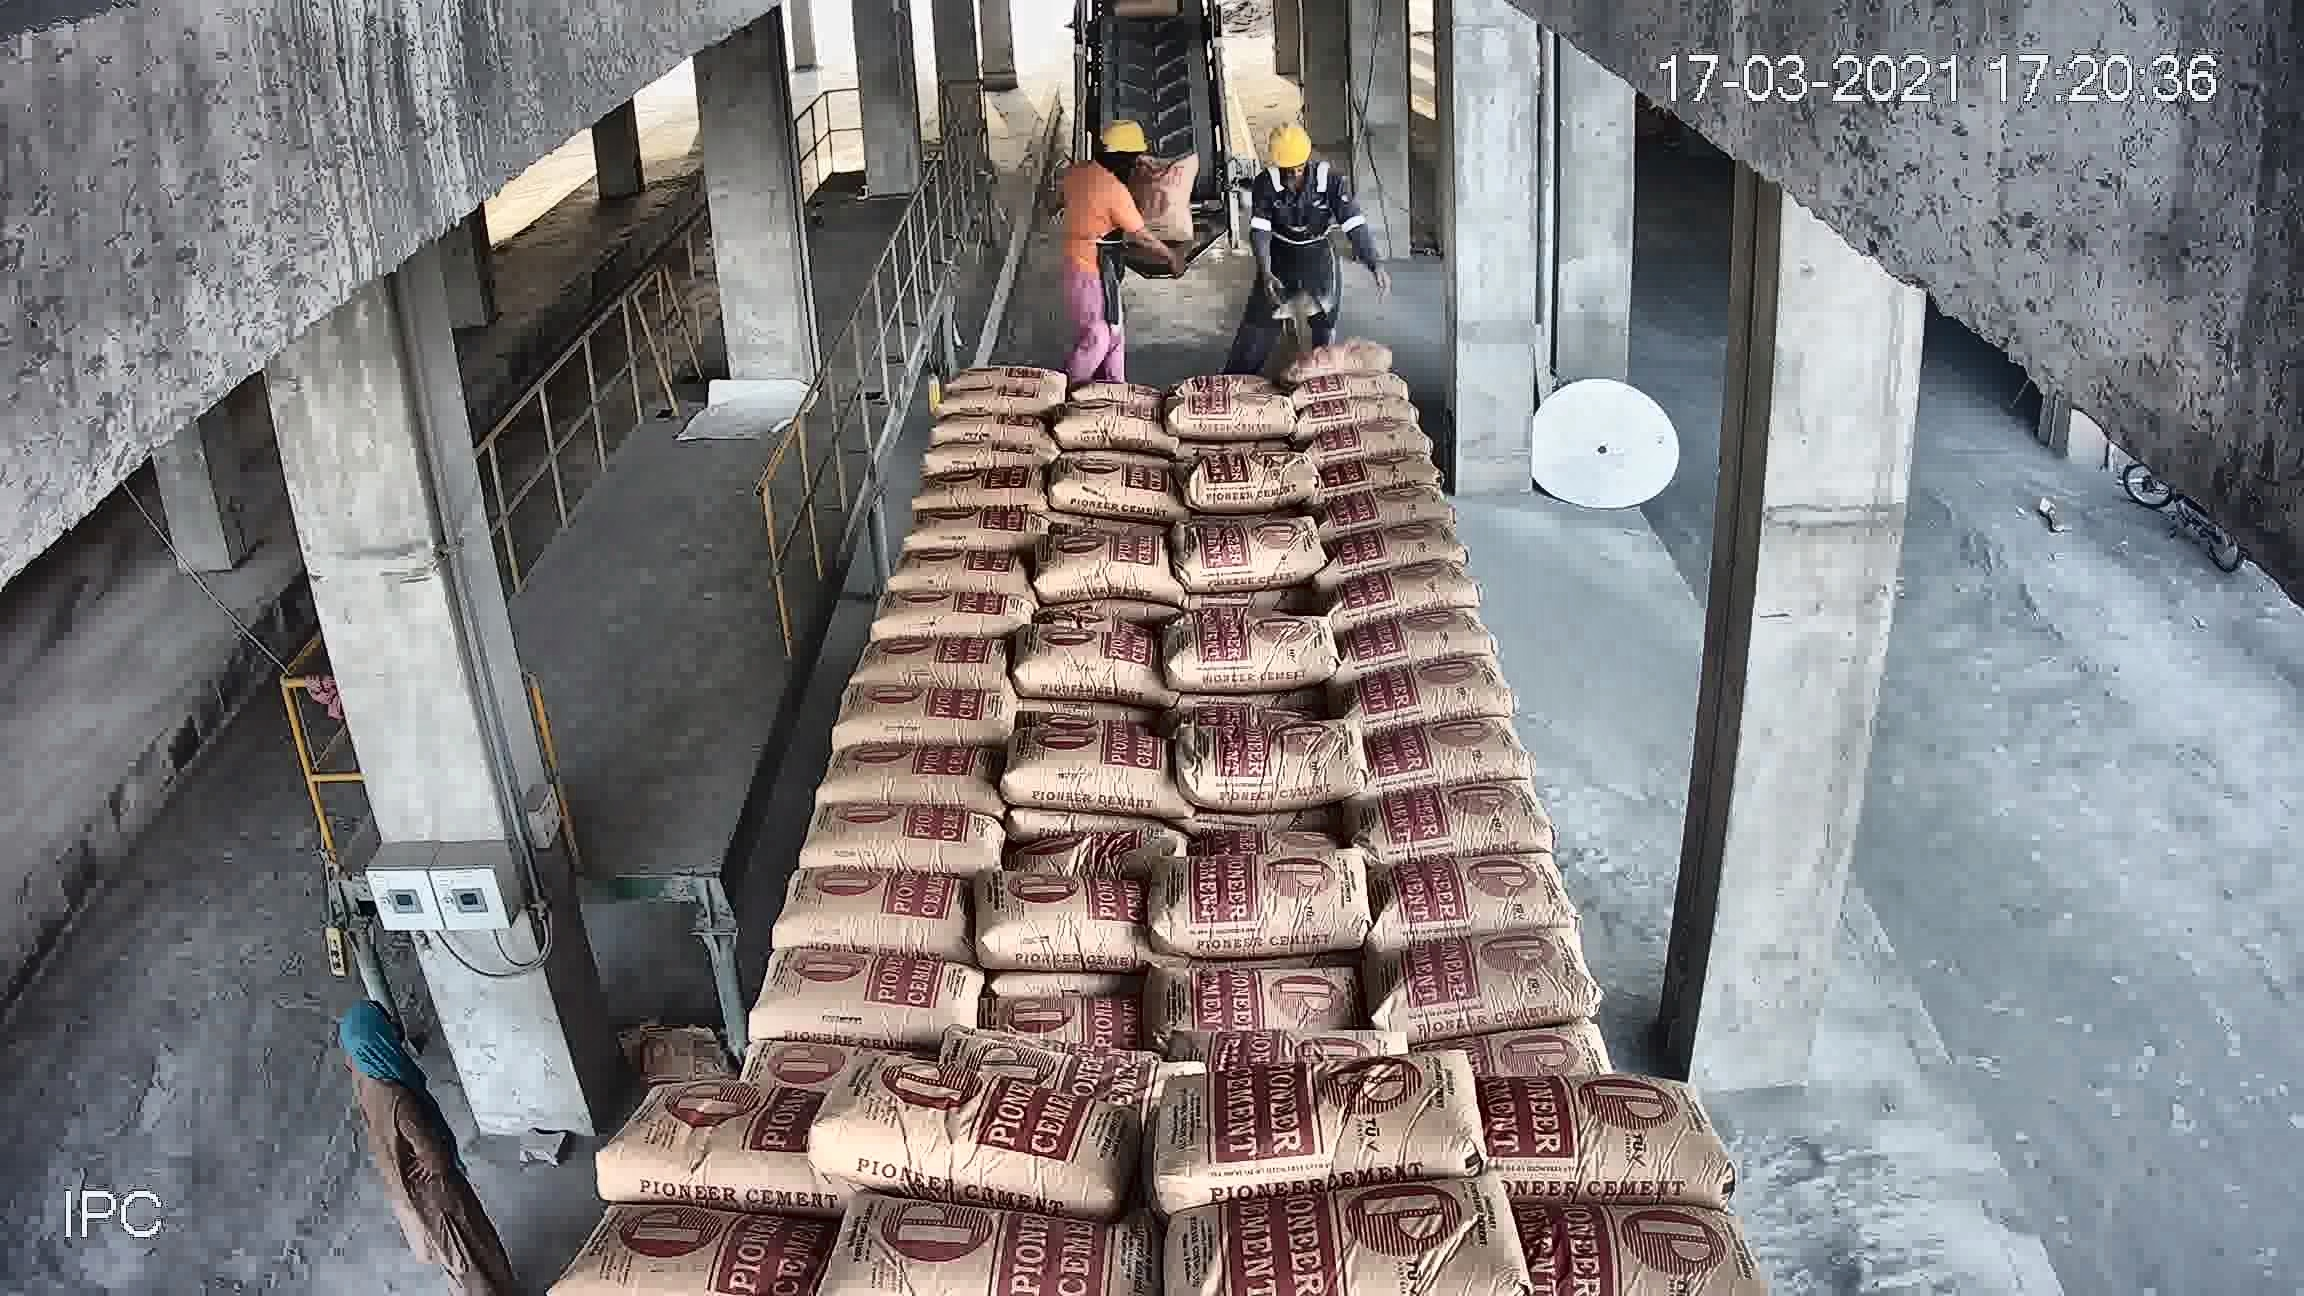bag: (1117, 286, 1234, 402), (1079, 0, 1196, 97)
bag_h: (1109, 940, 1464, 1097), (1157, 1043, 1492, 1201), (1432, 1041, 1723, 1214), (1157, 1169, 1544, 1296), (785, 1082, 1154, 1192), (630, 932, 889, 1078), (889, 943, 1147, 1086), (1163, 832, 1424, 967), (1429, 949, 1681, 1086), (815, 1211, 1174, 1296), (1427, 832, 1628, 983), (679, 840, 881, 968), (592, 1082, 799, 1207), (891, 859, 1161, 949), (1570, 1166, 1756, 1296), (570, 1201, 858, 1282), (1385, 766, 1552, 862), (1155, 774, 1350, 856), (793, 798, 938, 881), (807, 733, 945, 801), (1407, 709, 1519, 786), (836, 684, 961, 747), (858, 631, 956, 692), (1157, 628, 1244, 676), (873, 597, 951, 642), (1358, 404, 1426, 454), (1321, 318, 1400, 356), (1340, 343, 1408, 386), (883, 555, 961, 589), (923, 502, 968, 546)
belt: (994, 9, 1317, 548)
